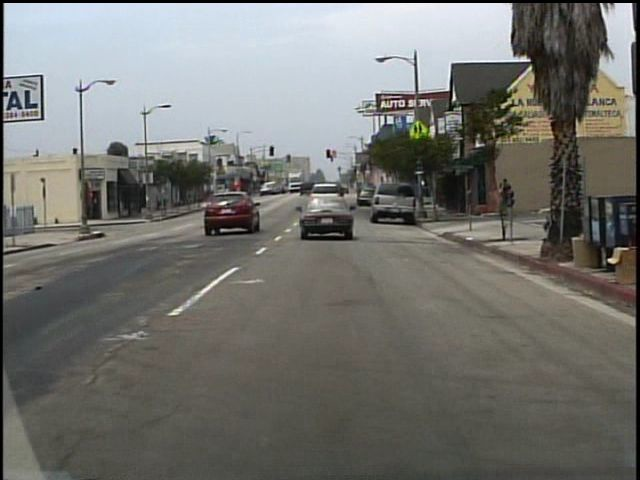person: (503, 178, 515, 217), (494, 182, 506, 217)
